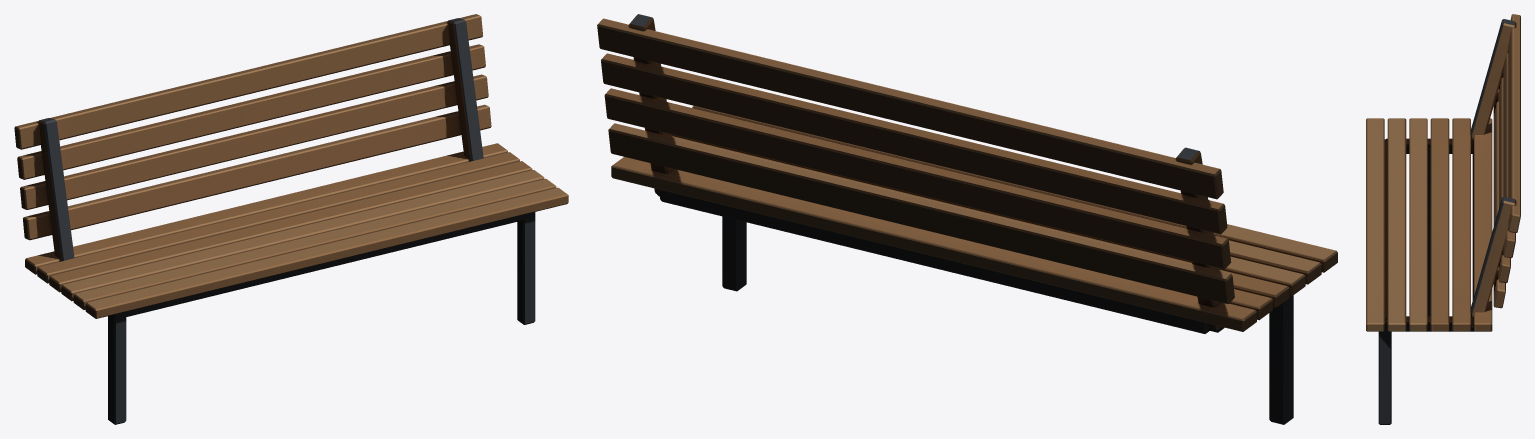
Rendered from 0-20261016-1900-ev004-r01-lobby-bench_baked.glb.
The picture shows the model from 3 angles, left to right: view 1: azimuth 30°, elevation 25°; view 2: azimuth 150°, elevation 25°; view 3: azimuth 270°, elevation 25°; orthographic projection. The views are drawn at different scales.
Parts seen in each view (by area): view 1: SW_Lobby_Bench; view 2: SW_Lobby_Bench; view 3: SW_Lobby_Bench.
Part boxes in pixels (left/top/right/bottom): SW_Lobby_Bench: left=14, top=14, right=568, bottom=424; SW_Lobby_Bench: left=597, top=14, right=1337, bottom=424; SW_Lobby_Bench: left=1366, top=14, right=1520, bottom=424.
Bounding box in the file's own units: 1.76 × 0.895 × 0.56.
1 material, 1 textured.
